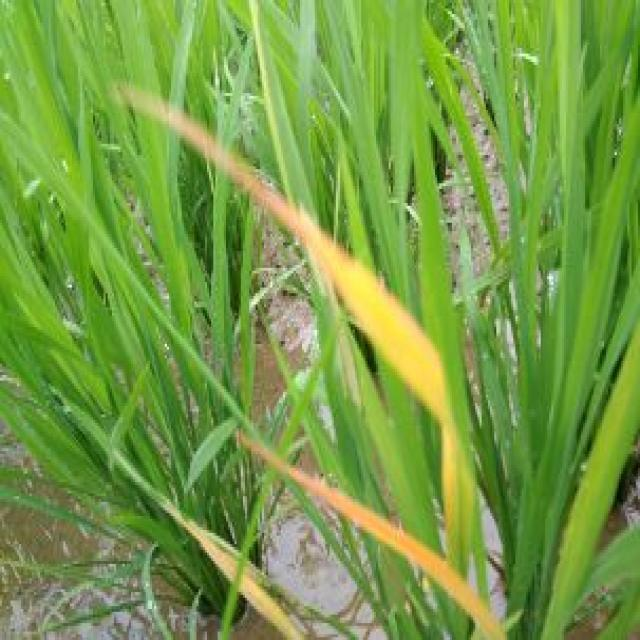Rice Tungro: (133, 87, 454, 410)
